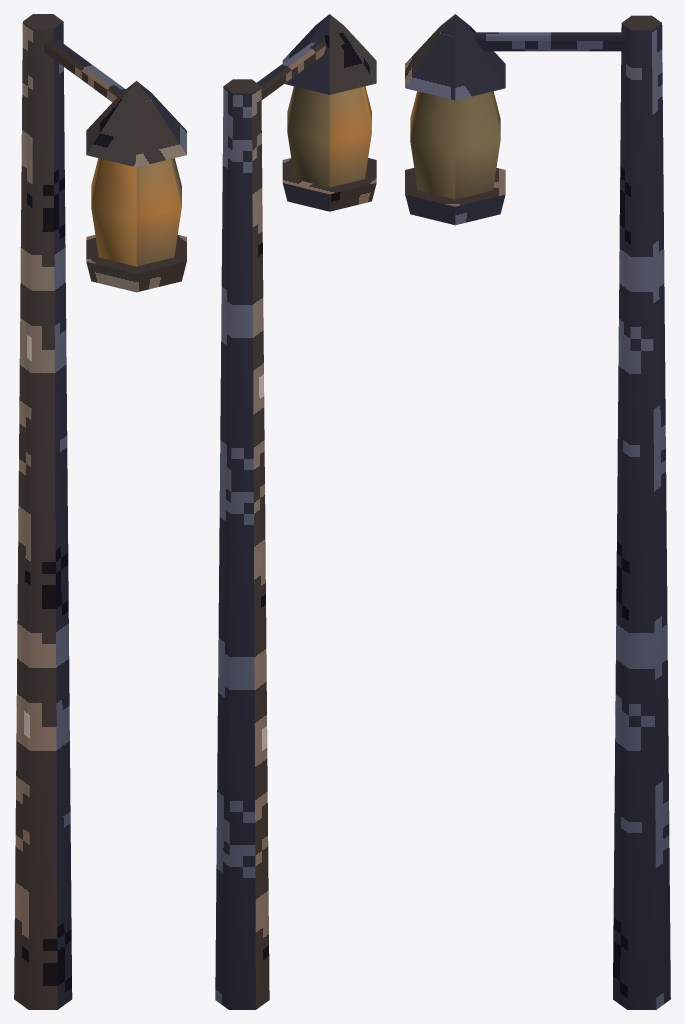
Rendered from wprop.lantern__post.glb.
3 views of the same model, side by side, from view 1: azimuth 30°, elevation 25°; view 2: azimuth 150°, elevation 25°; view 3: azimuth 270°, elevation 25° (orthographic). The views are drawn at different scales.
Parts seen in each view (by area): view 1: kit_post, kit_glass, kit_cap, kit_base, kit_arm; view 2: kit_post, kit_glass, kit_cap, kit_base, kit_arm; view 3: kit_post, kit_glass, kit_cap, kit_base, kit_arm.
Part boxes in pixels (x1,y1,x2,y2): kit_post: [14, 14, 72, 1009]; kit_glass: [91, 158, 181, 266]; kit_cap: [86, 81, 186, 167]; kit_base: [86, 235, 186, 292]; kit_arm: [43, 38, 125, 102]; kit_post: [215, 79, 269, 1009]; kit_glass: [287, 86, 371, 187]; kit_cap: [282, 14, 376, 94]; kit_base: [282, 158, 376, 211]; kit_arm: [257, 38, 326, 99]; kit_post: [613, 15, 670, 1009]; kit_glass: [410, 91, 500, 199]; kit_cap: [405, 14, 505, 100]; kit_base: [405, 168, 505, 225]; kit_arm: [474, 32, 626, 51].
Size of the model in its own units: 0.28 by 2.62 by 0.6412.
3 materials, 2 textured.
